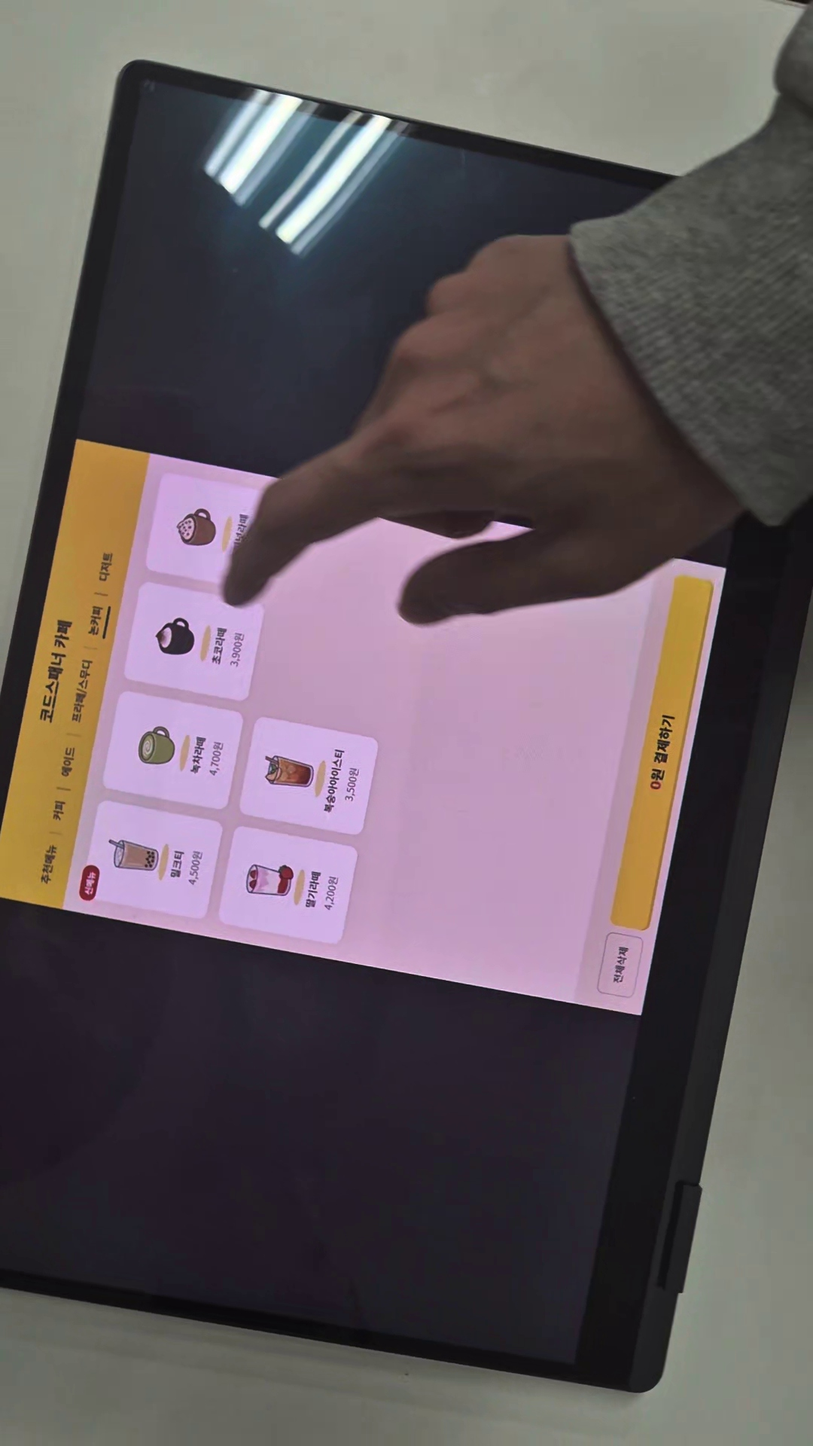action_button: (608, 575, 714, 931), (597, 932, 644, 998)
category_tab: (69, 658, 94, 724), (38, 842, 59, 886), (86, 605, 105, 637), (58, 746, 77, 778), (97, 551, 115, 583), (50, 799, 67, 822)
menu_back: (101, 689, 245, 811), (237, 714, 380, 836), (81, 799, 224, 921), (123, 581, 266, 703), (217, 826, 360, 945)
menu_name: (322, 747, 346, 814), (188, 735, 208, 776), (304, 870, 323, 909), (210, 626, 228, 666), (168, 849, 186, 880)
menu_price: (228, 631, 246, 669), (207, 740, 225, 777), (343, 766, 361, 802), (322, 875, 340, 911), (187, 850, 205, 886)
